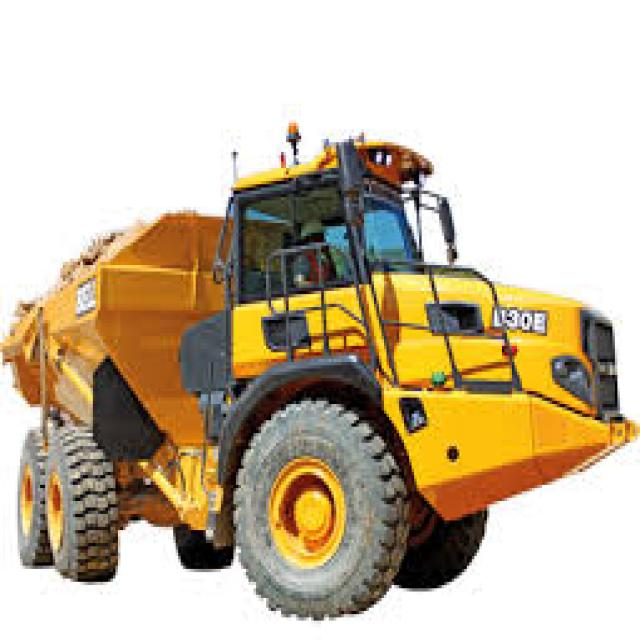dump_truck: (8, 120, 638, 624)
